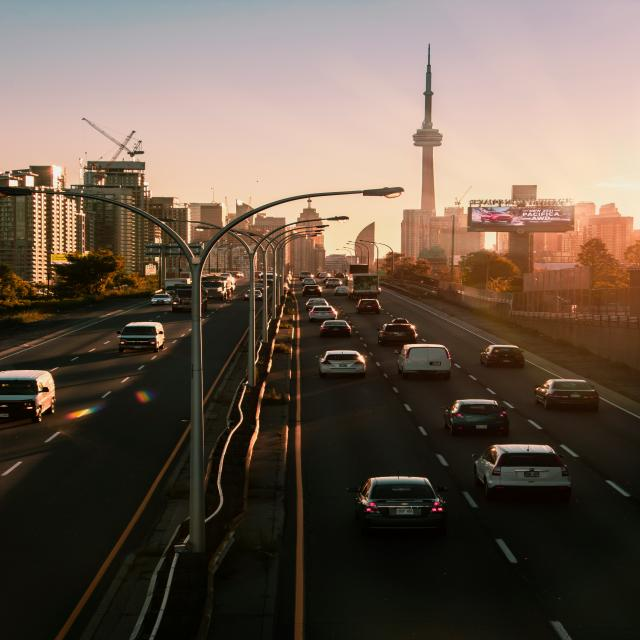Car: (347, 475, 448, 534), (471, 444, 572, 500), (0, 370, 56, 422), (441, 399, 510, 436), (394, 343, 452, 380), (534, 379, 600, 411), (117, 322, 165, 353), (318, 350, 367, 378), (480, 344, 524, 368), (377, 323, 418, 345), (319, 320, 352, 337), (308, 306, 338, 322), (355, 299, 382, 314), (305, 298, 328, 311), (150, 293, 172, 305), (302, 285, 322, 296), (244, 289, 262, 300), (334, 286, 350, 296), (302, 278, 317, 286)
